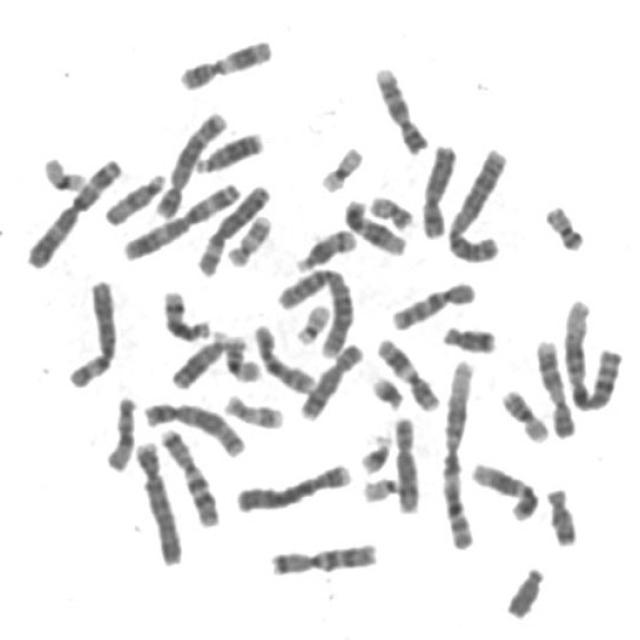A1: (437, 352, 480, 550), (558, 291, 627, 413)
A2: (443, 140, 513, 264), (274, 260, 359, 358)
A3: (21, 150, 127, 269), (118, 174, 246, 262)
B4: (130, 433, 188, 567), (230, 455, 356, 515)
B5: (150, 100, 232, 220), (139, 394, 250, 458)
C10: (249, 316, 321, 396), (386, 273, 481, 332)
C11: (174, 30, 277, 92), (372, 330, 444, 413)
C12: (466, 453, 544, 522), (339, 191, 411, 257)
C6: (191, 175, 275, 278), (62, 272, 122, 391)
C7: (156, 421, 224, 528), (265, 533, 383, 577)
C8: (294, 336, 368, 422), (389, 407, 425, 515)
C9: (370, 58, 432, 155), (531, 331, 580, 440)
D13: (165, 325, 232, 391), (191, 124, 268, 174)
D14: (291, 221, 361, 274), (157, 282, 215, 343)
D15: (100, 165, 169, 228), (101, 389, 140, 473)
E16: (497, 381, 554, 444), (221, 327, 265, 383)
E17: (223, 206, 276, 268), (219, 387, 289, 430)
E18: (541, 479, 584, 548), (438, 316, 501, 356)
F19: (316, 138, 367, 194), (38, 149, 90, 193)
F20: (539, 196, 590, 252), (365, 186, 418, 232)
G21: (366, 367, 410, 411), (356, 427, 396, 475)
G22: (291, 297, 334, 345), (358, 469, 404, 504)
X: (417, 136, 461, 241)
Y: (502, 558, 550, 620)
